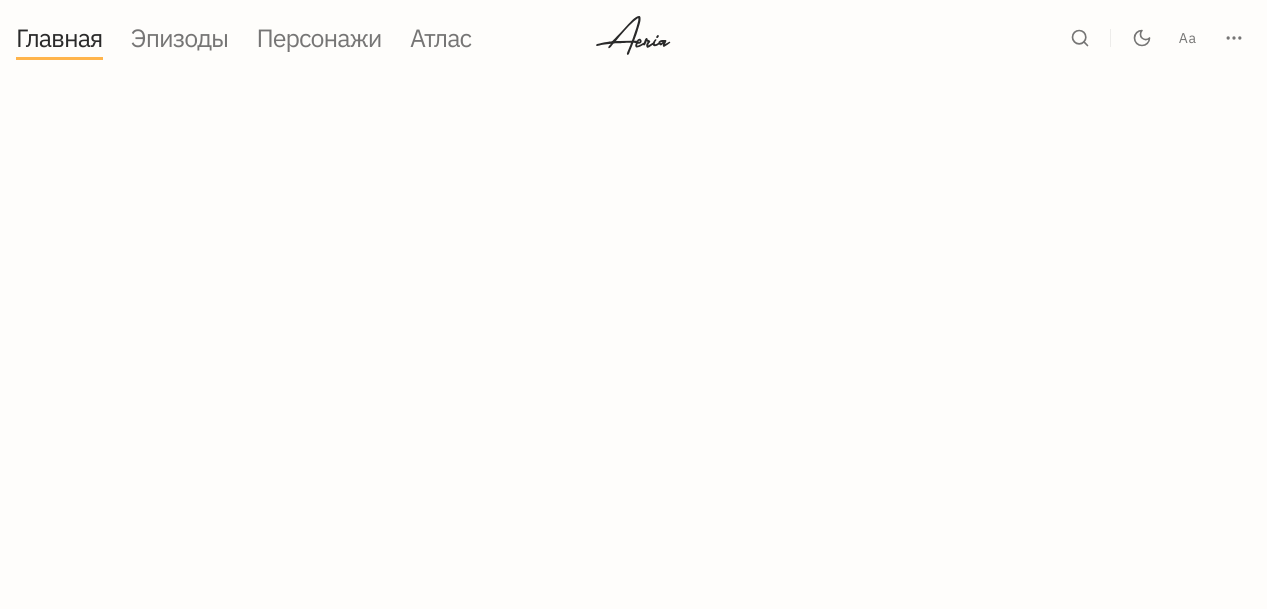
Test case: Navbar smoke › opens fonts and settings popovers
This screenshot has width=1267, height=609.
Click the button with aria-label "Шрифты". click: [1188, 38]
box: [1172, 22, 1204, 54]
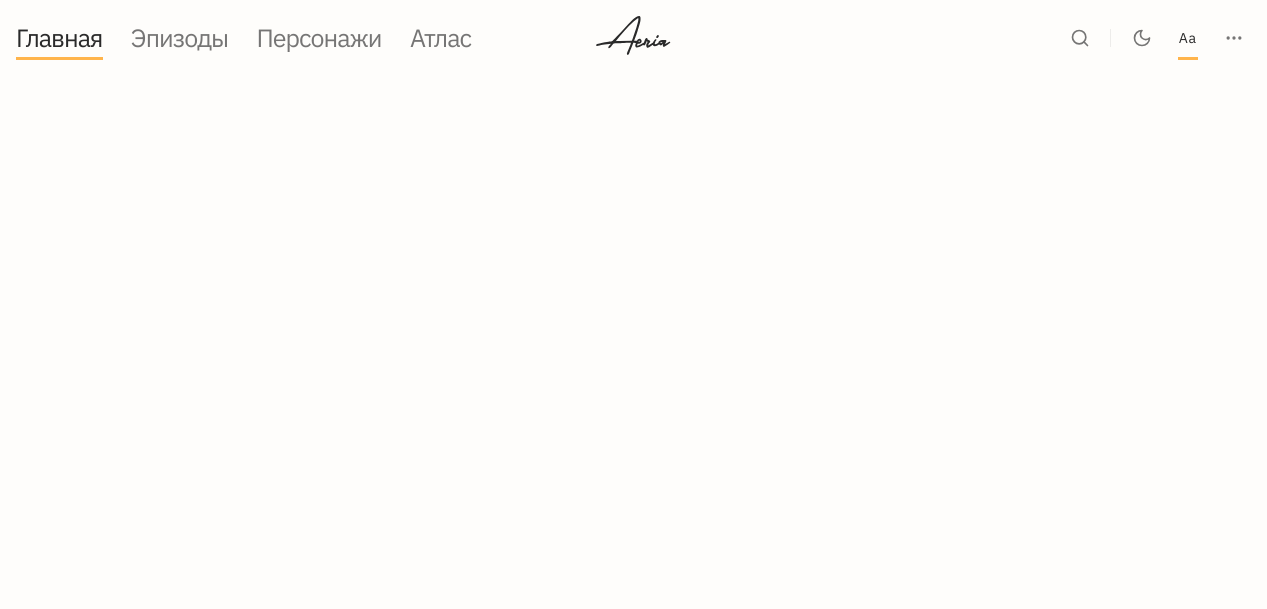
Click the button named "Настройки". click: [1234, 38]
box: [1218, 22, 1250, 54]
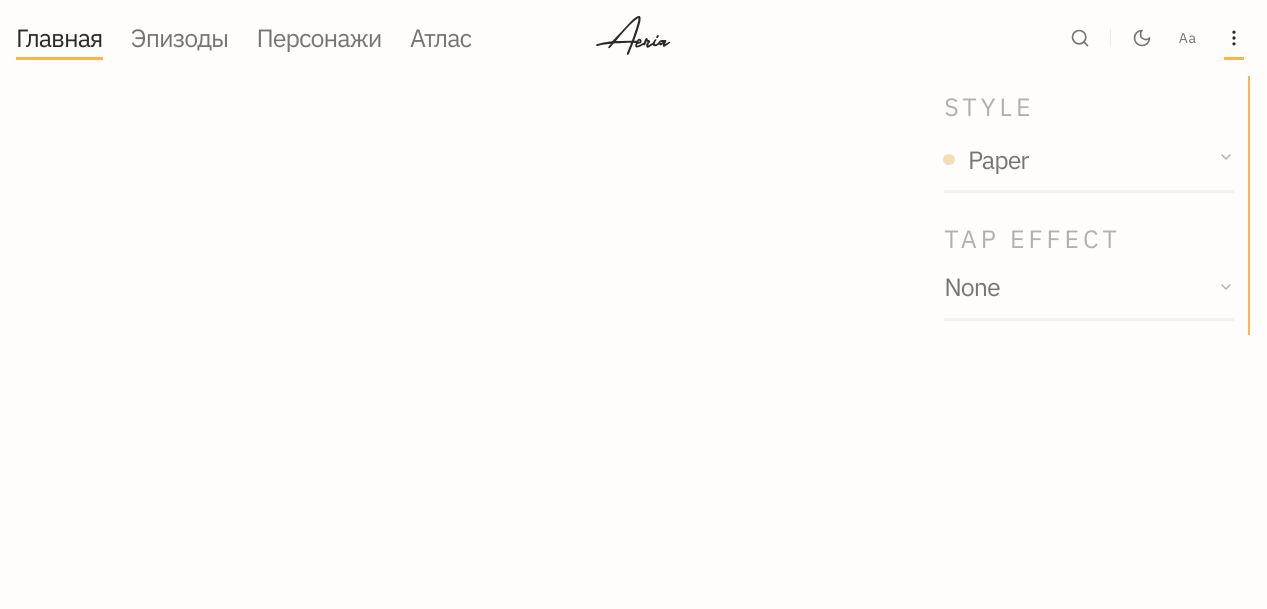
Check: the text "Style" is shown, box [944, 90, 1035, 123]
Click the dropdown named "Style". click: [998, 159]
box: [944, 138, 1234, 194]
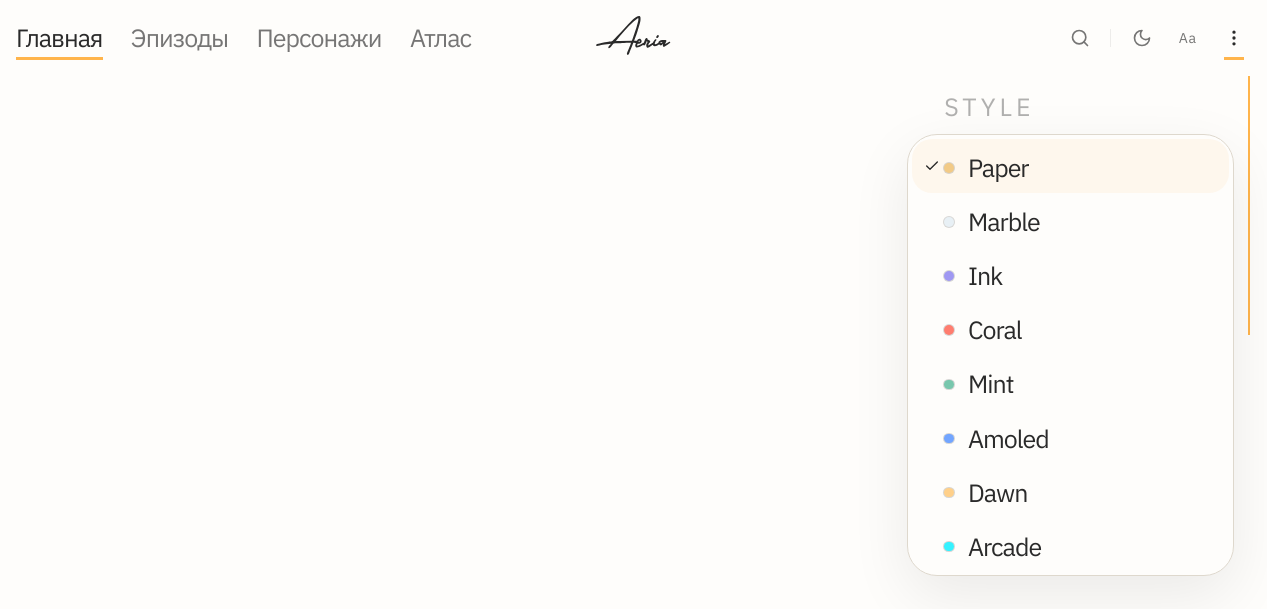
Check: the option "Mint" is shown, box [944, 367, 1013, 400]
Check: the option "Ink" is shown, box [944, 259, 1002, 292]
Check: the option "Arcade" is shown, box [944, 530, 1041, 563]
